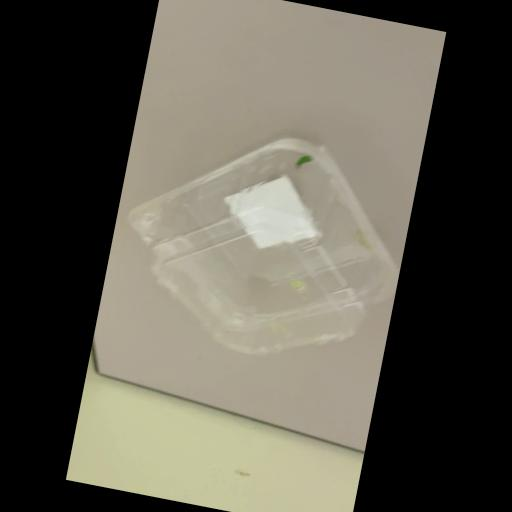small_plastic_container: (105, 109, 421, 381)
